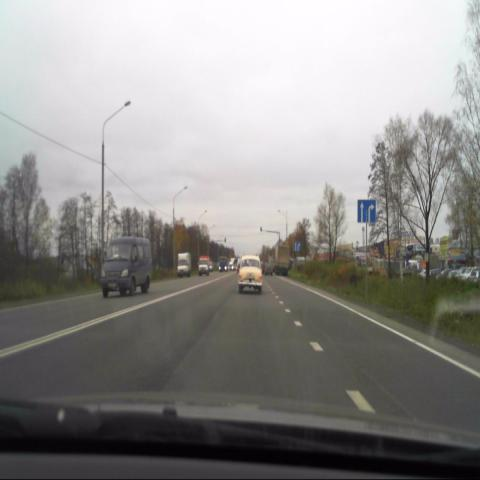5_15_2_2: (357, 201, 377, 223)
